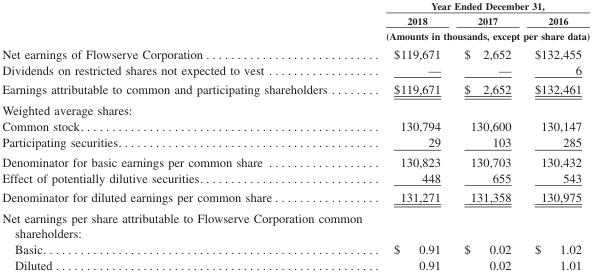table: (1, 1, 589, 272)
table column: (1, 1, 355, 272), (355, 1, 451, 272), (451, 1, 522, 272), (522, 1, 589, 272)
table column header: (1, 1, 589, 44)
table projected row header: (1, 208, 589, 241), (1, 100, 589, 119)
table row: (1, 208, 589, 241), (1, 79, 589, 100), (1, 187, 589, 208), (1, 100, 589, 119), (1, 44, 589, 62), (1, 152, 589, 170), (1, 62, 589, 79), (1, 135, 589, 152), (1, 170, 589, 187), (1, 28, 589, 44), (1, 119, 589, 135), (1, 241, 589, 257), (1, 13, 589, 28), (1, 257, 589, 272), (1, 1, 589, 13)
table spanning cell: (355, 28, 589, 44), (355, 1, 589, 13)
